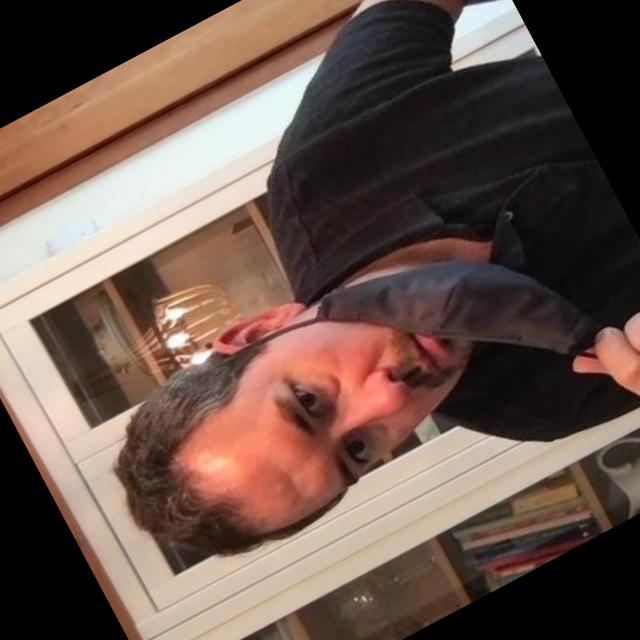bareface: (132, 276, 502, 562)
